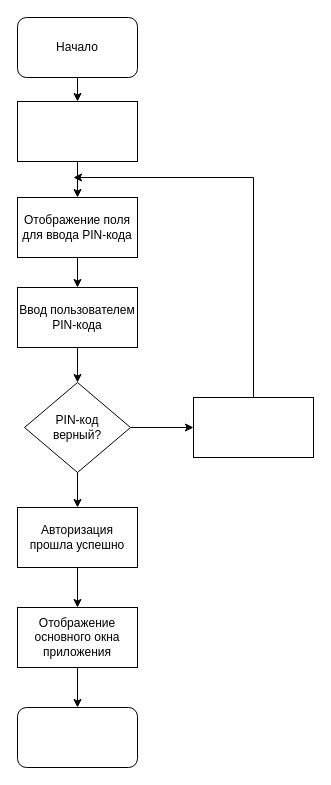
Some shapes in this 331 by 785 pixel diagram are drawn without their labels. Here are the shapes that lost their labels. From the top down, the centre of each, then its label:
point (77, 131): Инициализация приложения
point (253, 427): Вывод сообщение о некорректности данных
point (77, 737): Конец
